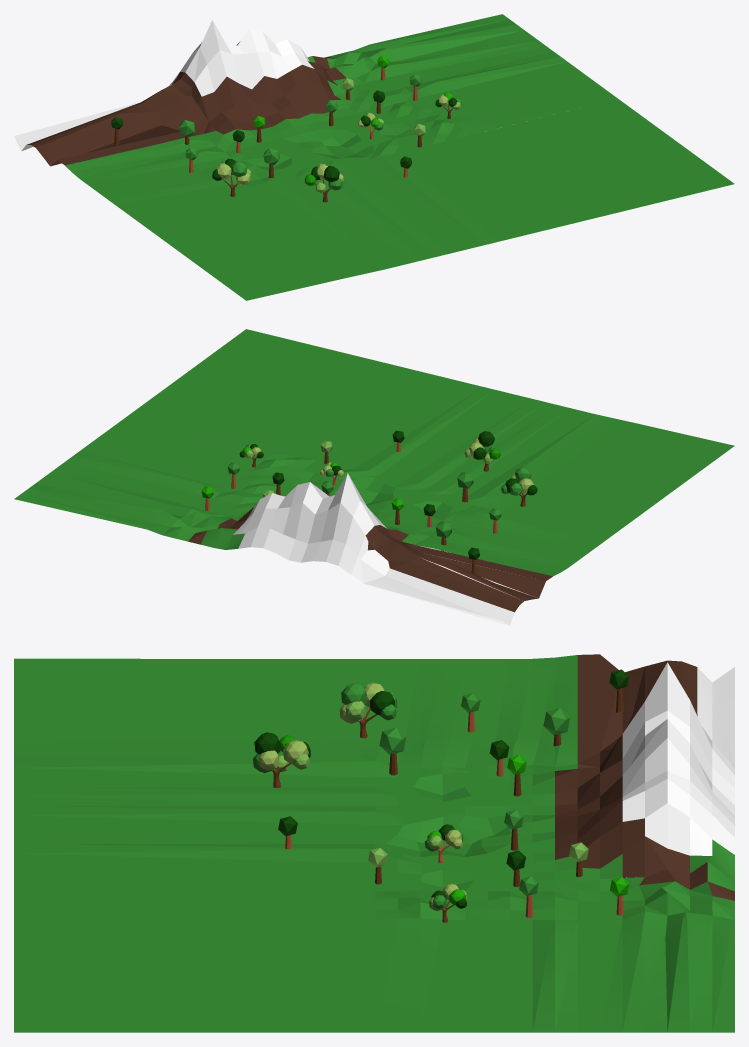
The model's file is mountain.glb.
3 renders of one model, top to bottom at view 1: azimuth 30°, elevation 25°; view 2: azimuth 150°, elevation 25°; view 3: azimuth 270°, elevation 25°, orthographic. The views are drawn at different scales.
Parts seen in each view (by area): view 1: Ground; view 2: Ground; view 3: Ground.
Boxes of the visible parts, x1,y1,x2,y2 form: Ground: (14,14,734,300); Ground: (14,329,734,625); Ground: (14,654,734,1032).
Bounding box in the file's own units: 38.95 × 7.57 × 32.07.
